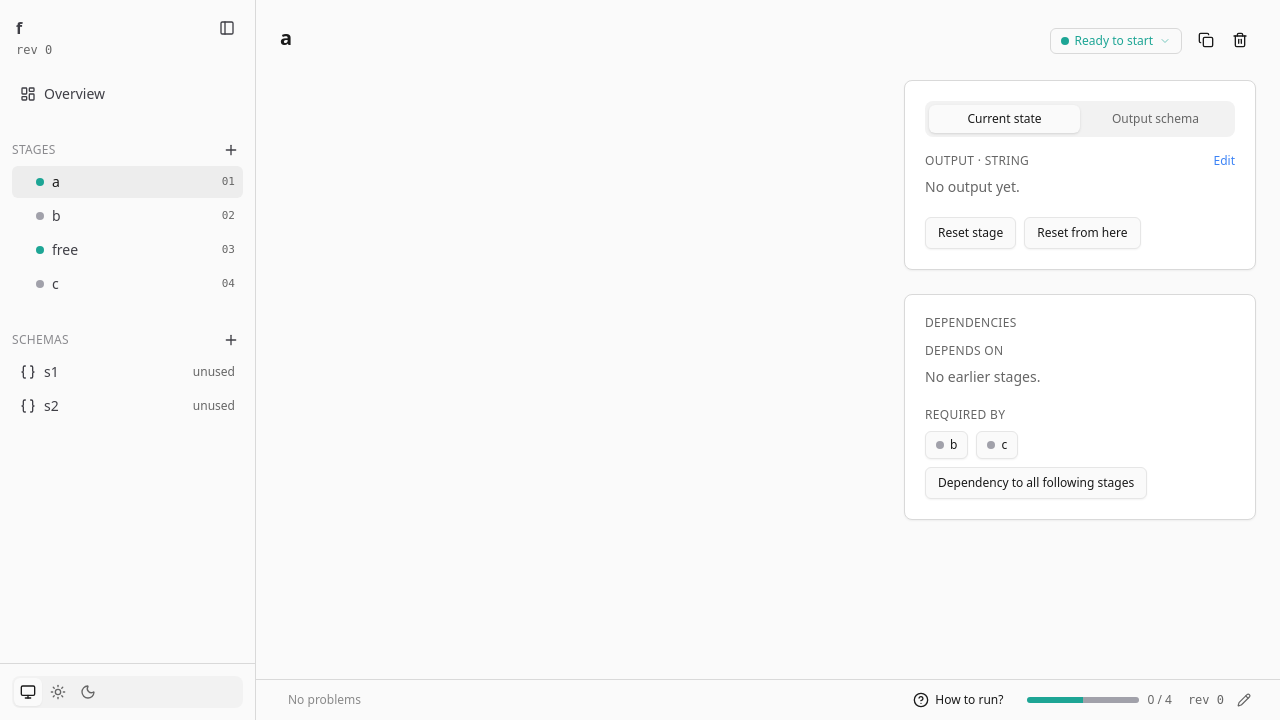
Test: stage list › rename_updates_dependents_and_the_hash
The width and height of the screenshot is (1280, 720).
Click the button named "Edit stage name". click: x=286, y=38
box: [276,24,296,52]
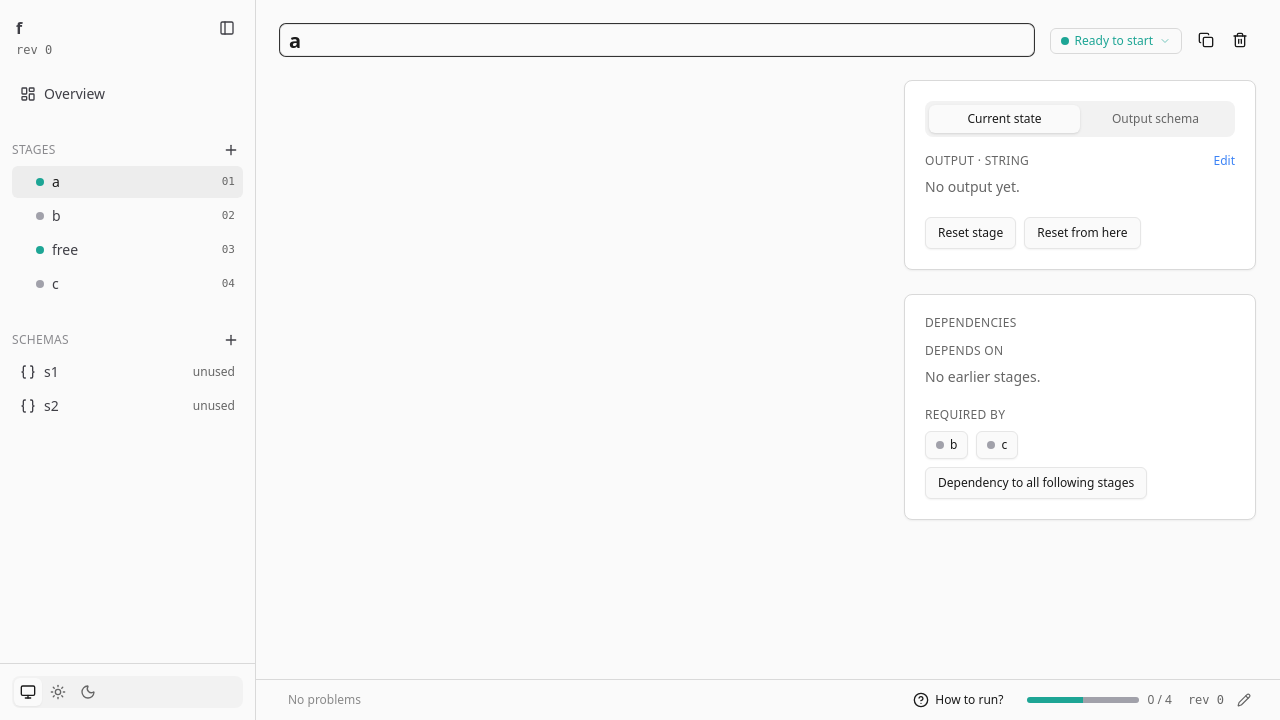
Replace the text in the field named "Stage name" with "root". click: x=657, y=40
box: [280,24,1034,56]
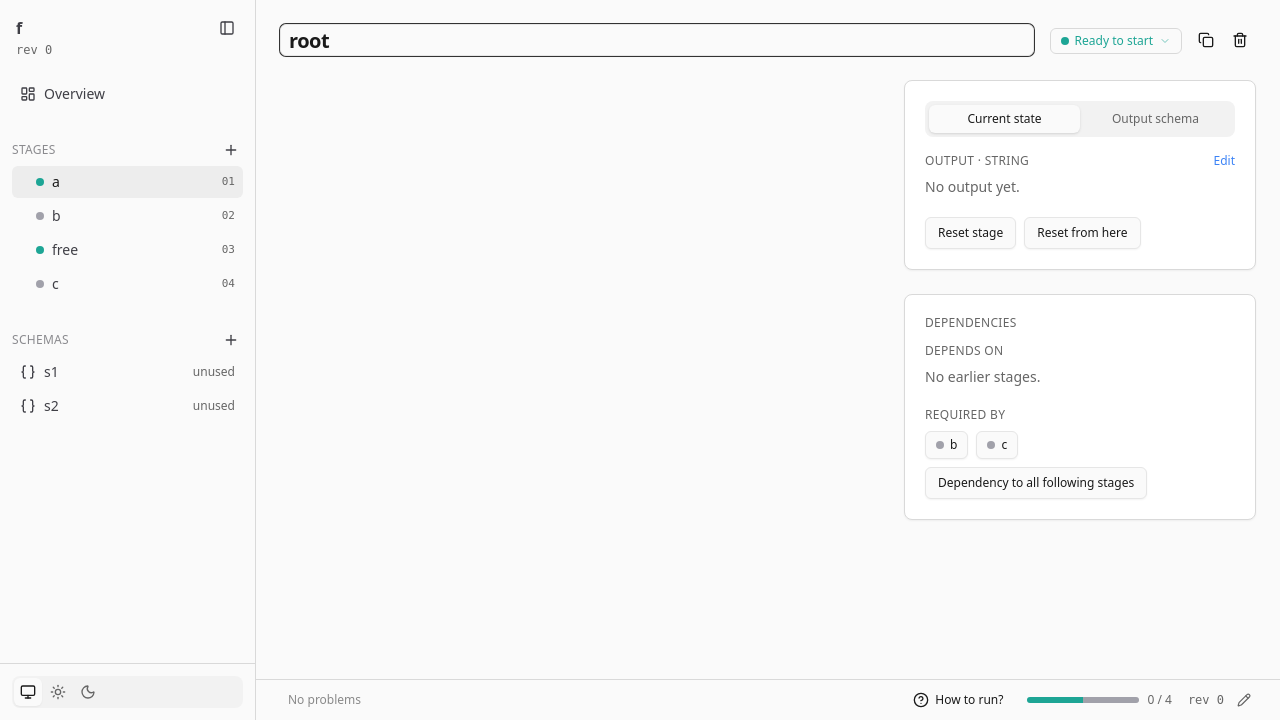
Press Enter in the field named "Stage name", box [280,24,1034,56]
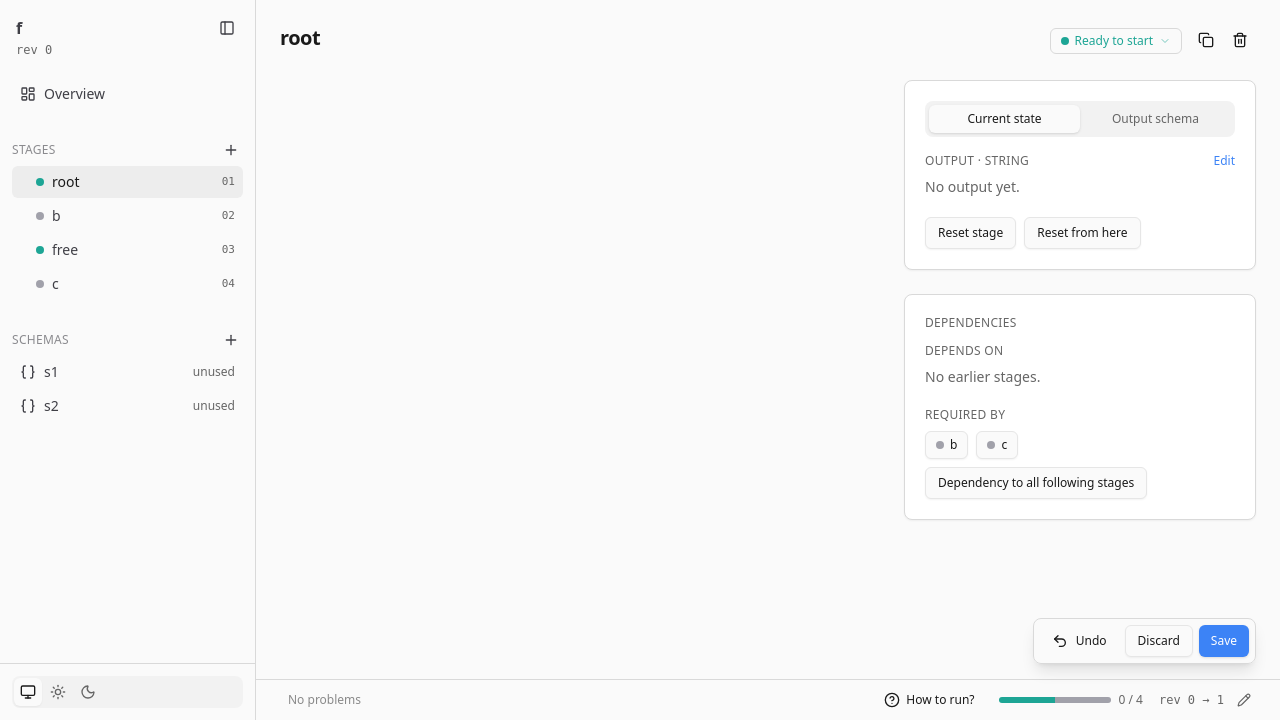
Now the text "root" is shown, box [52,172,80,191]
